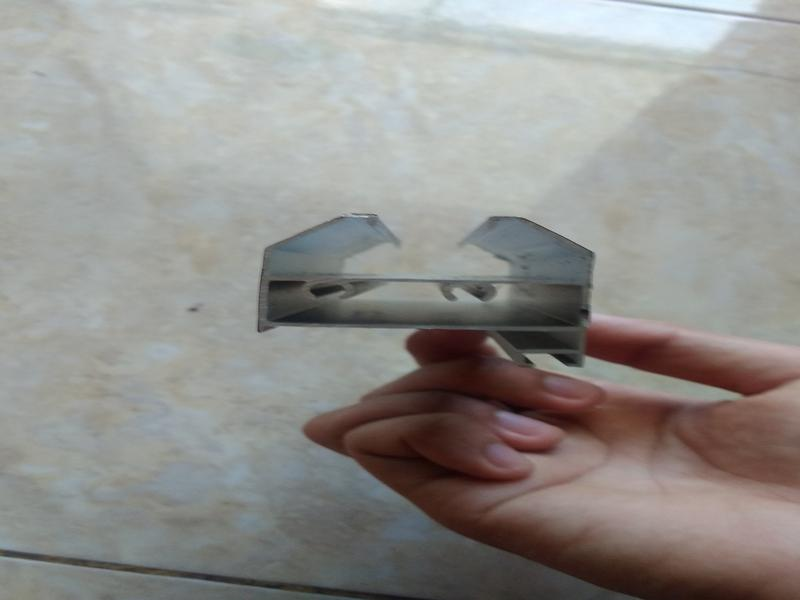Aluminium_3: (231, 180, 613, 387)
